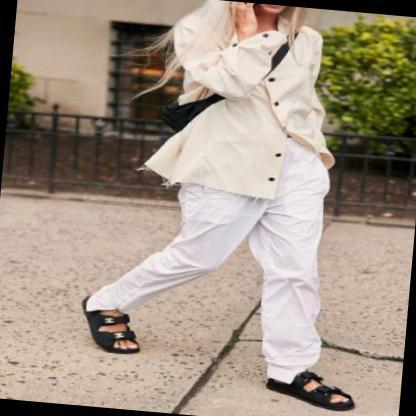no_safety-shoe: (64, 293, 161, 376), (247, 361, 374, 415)
